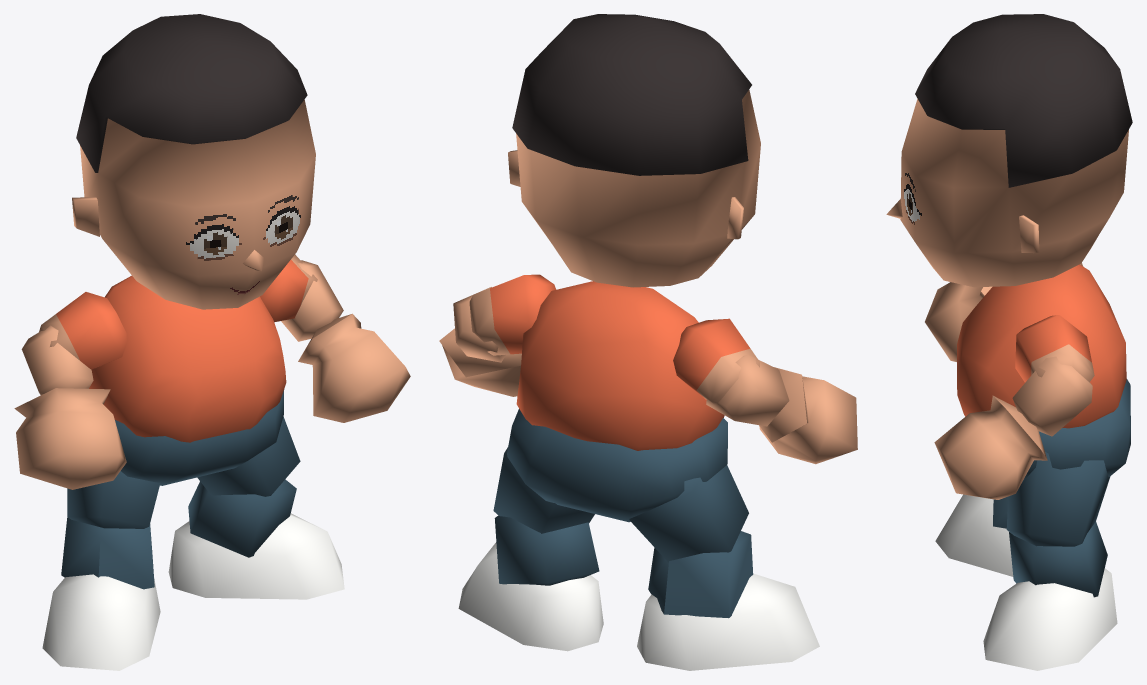
The picture shows the model from 3 angles, left to right: view 1: azimuth 30°, elevation 25°; view 2: azimuth 150°, elevation 25°; view 3: azimuth 270°, elevation 25°; orthographic projection. The views are drawn at different scales.
Visible parts, largest first — view 1: Character; view 2: Character; view 3: Character.
Boxes of the visible parts, x1=… form: Character: x1=14, y1=14, x2=410, y2=670; Character: x1=439, y1=14, x2=857, y2=670; Character: x1=886, y1=14, x2=1132, y2=670.
Bounding box in the file's own units: 1.98 × 2.78 × 1.09.
9 materials, 2 textured.
